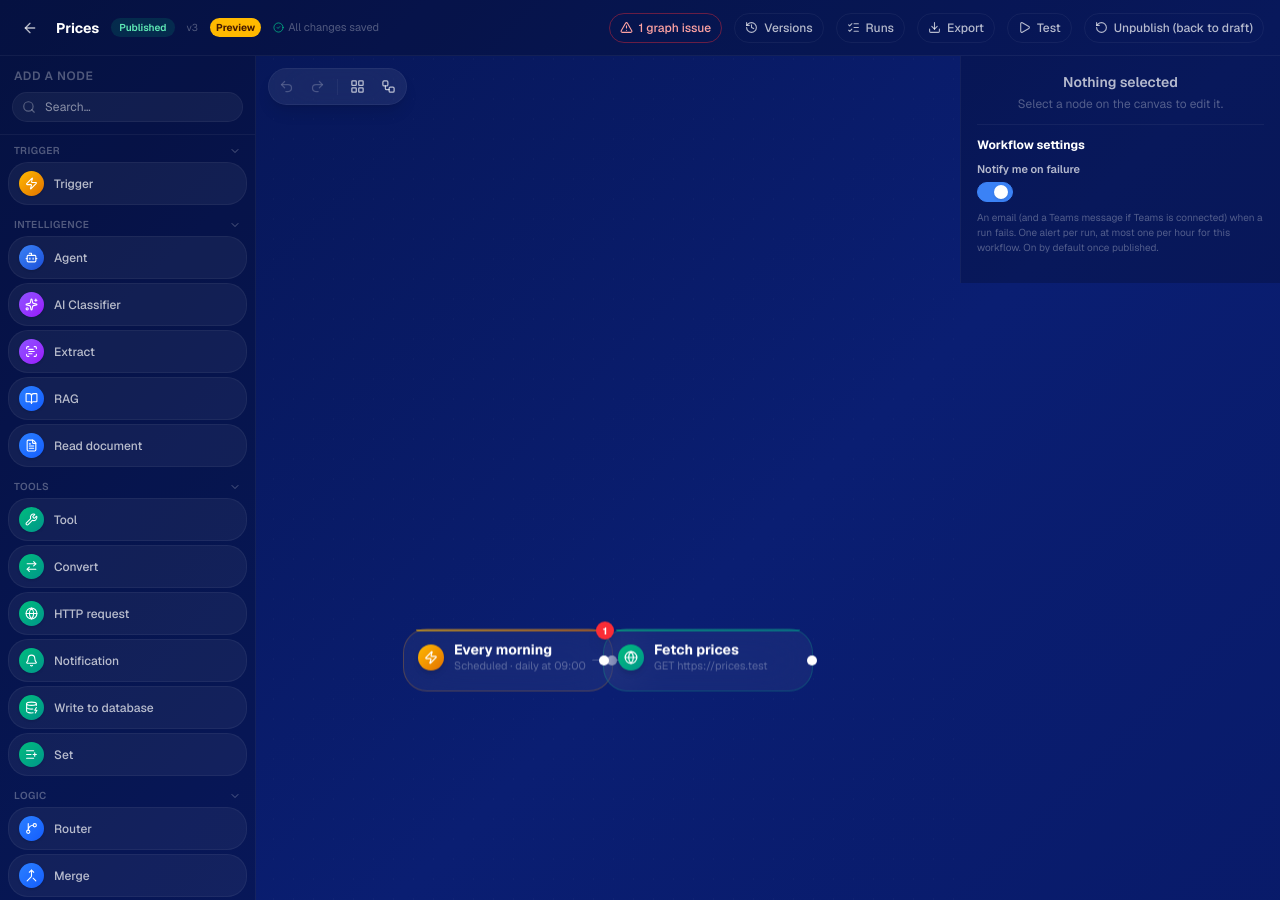
Failure alert and the missing error handling warning › stays quiet on a published workflow, whose failure alert is on by default
Expected: the button "Runs" is shown, [836, 12, 905, 42]
Click the button "1 graph issue": (665, 28) [608, 12, 722, 42]
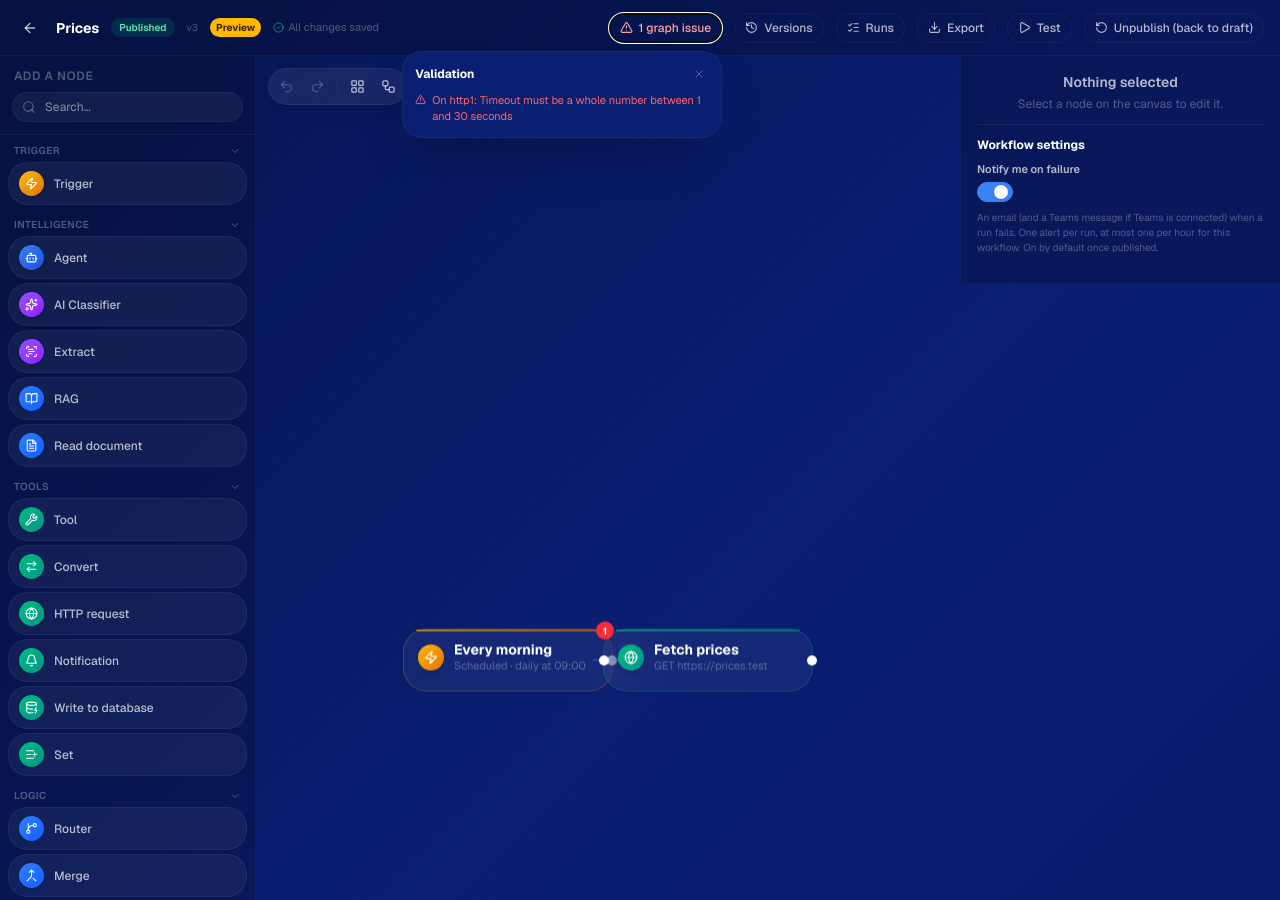
Expected: the heading "Validation" is shown, [415, 66, 474, 82]
